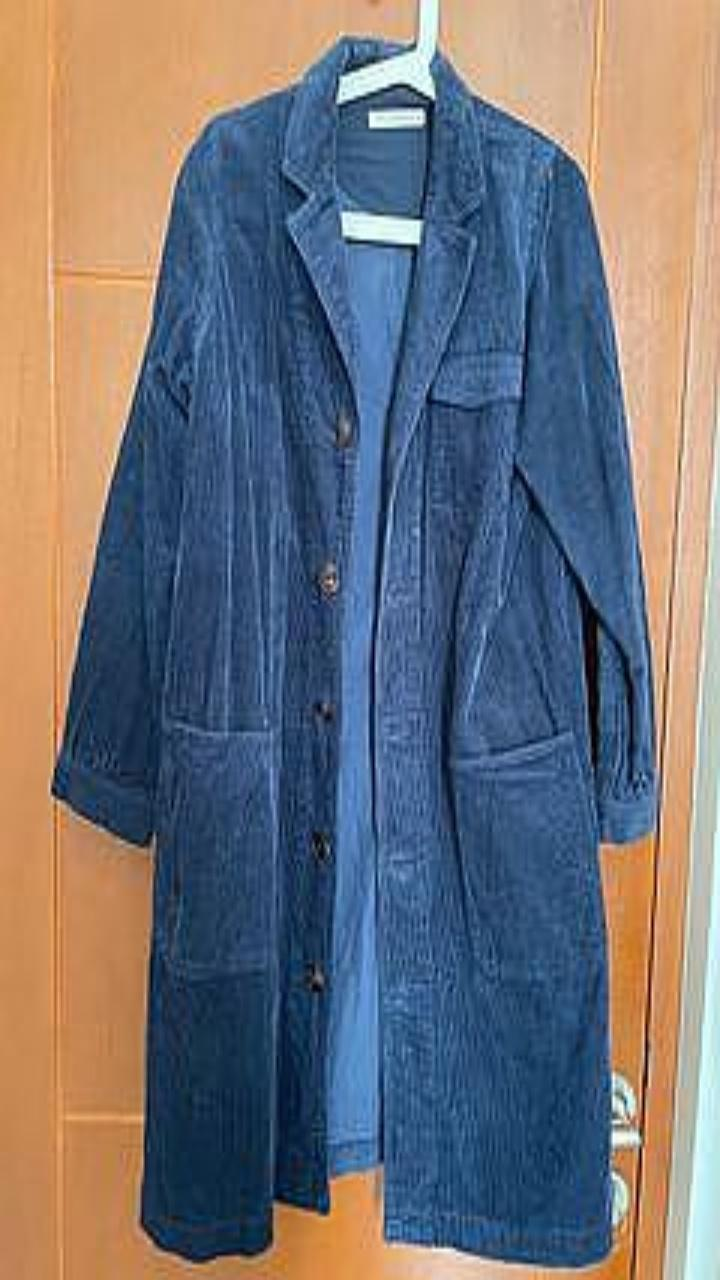Coat: (52, 36, 656, 1266)
